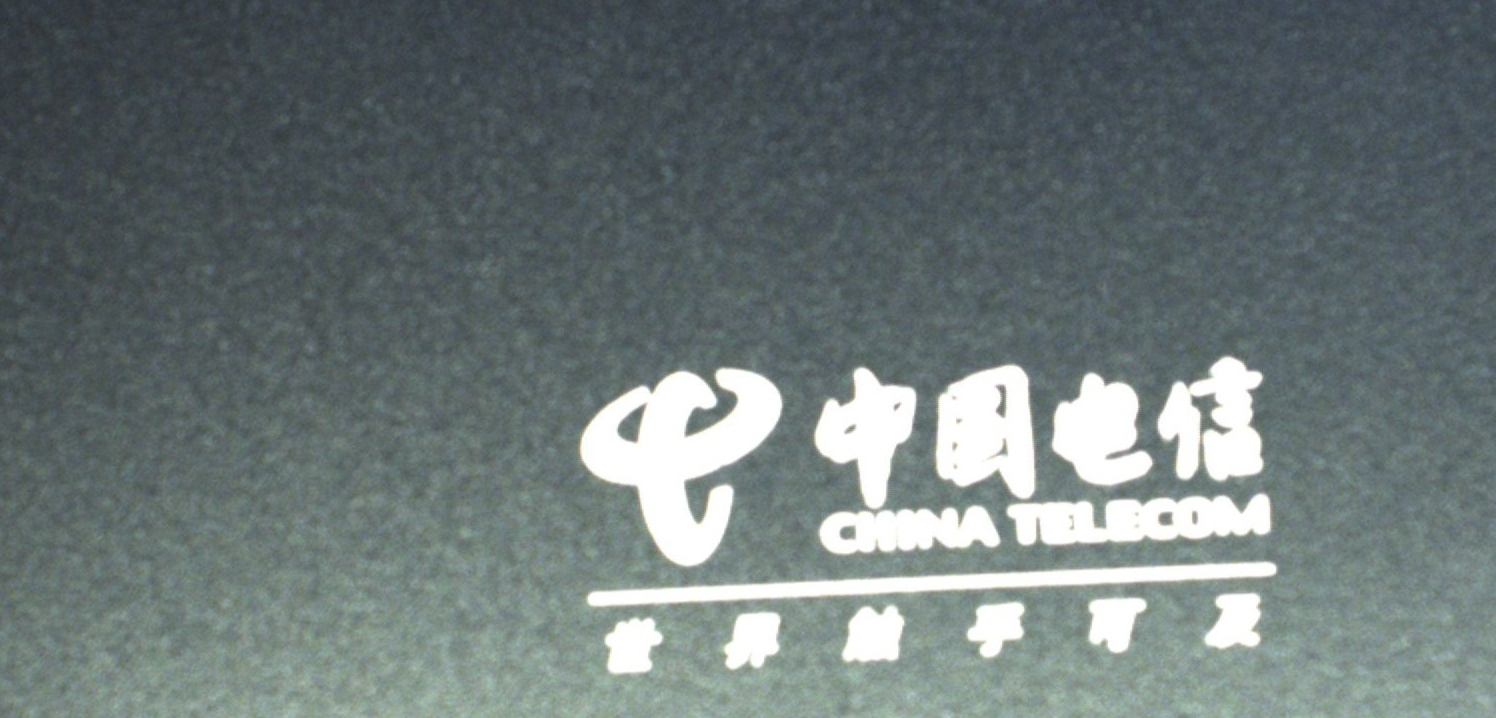AB_ChinaTelecom: (562, 355, 1292, 675)
